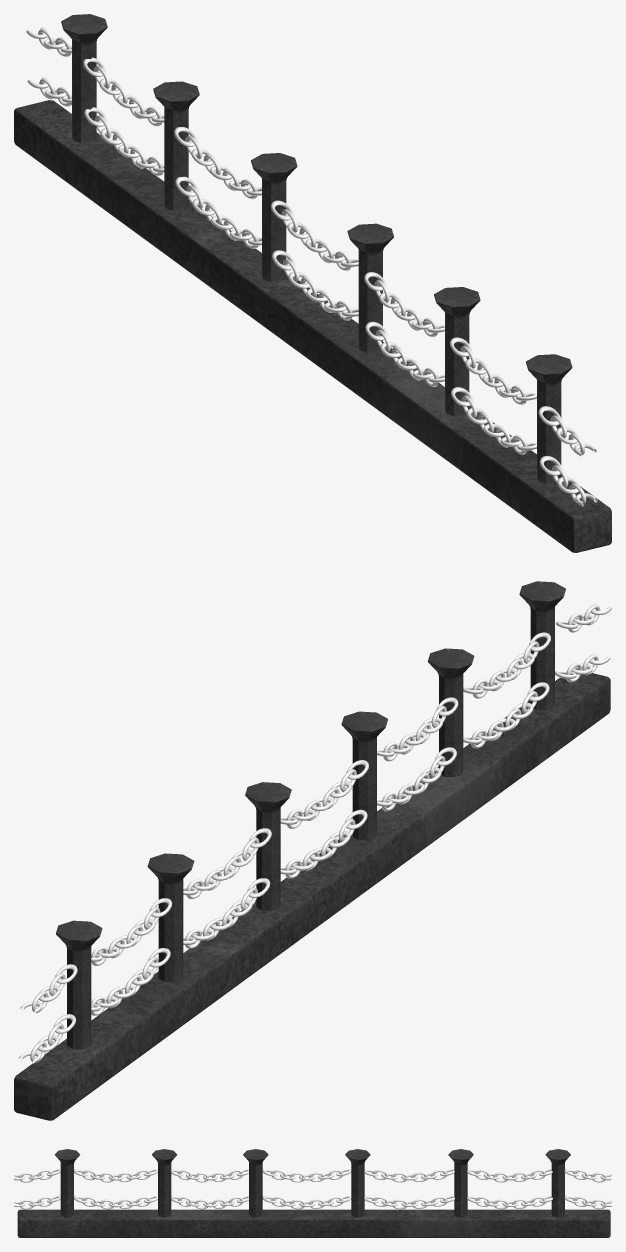
File: NEWFence.fbx
3 views of the same model, one above another, from view 1: azimuth 30°, elevation 25°; view 2: azimuth 150°, elevation 25°; view 3: azimuth 270°, elevation 25° (orthographic). The views are drawn at different scales.
Parts seen in each view (by area): view 1: fence_base, pCylinder3, pCylinder4, pCylinder5, pCylinder6, pCylinder7, pCylinder2, Circle3, Circle2, Circle4, Circle5, Circle8 (+7 smaller); view 2: fence_base, pCylinder4, pCylinder3, pCylinder5, pCylinder6, pCylinder7, pCylinder2, Circle2, Circle3, Circle4, Circle5, Circle8 (+7 smaller); view 3: fence_base, pCylinder2, pCylinder7, pCylinder6, pCylinder5, pCylinder4, pCylinder3, Circle3, Circle2, Circle5, Circle4, Circle1 (+9 smaller).
Boxes of the visible parts, box(x1,y1,x2,y2) form: fence_base: box(14, 100, 611, 552); pCylinder3: box(61, 14, 107, 143); pCylinder4: box(153, 81, 199, 210); pCylinder5: box(251, 153, 297, 281); pCylinder6: box(347, 223, 393, 352); pCylinder7: box(434, 287, 480, 415); pCylinder2: box(526, 354, 572, 483); Circle3: box(175, 176, 261, 248); Circle2: box(174, 127, 261, 199); Circle4: box(271, 200, 358, 270); Circle5: box(272, 250, 358, 320); Circle8: box(449, 337, 536, 404); fence_base: box(14, 669, 610, 1120); pCylinder4: box(147, 853, 194, 982); pCylinder3: box(56, 920, 102, 1049); pCylinder5: box(245, 782, 291, 910); pCylinder6: box(341, 711, 387, 840); pCylinder7: box(428, 648, 474, 777); pCylinder2: box(519, 581, 565, 710); Circle2: box(183, 828, 271, 899); Circle3: box(183, 878, 270, 948); Circle4: box(280, 760, 368, 828); Circle5: box(280, 809, 367, 878); Circle8: box(463, 632, 550, 698); fence_base: box(17, 1209, 610, 1237); pCylinder2: box(54, 1149, 80, 1217); pCylinder7: box(152, 1149, 177, 1217); pCylinder6: box(243, 1149, 268, 1217); pCylinder5: box(345, 1149, 370, 1217); pCylinder4: box(448, 1149, 473, 1217); pCylinder3: box(545, 1149, 570, 1217); Circle3: box(364, 1196, 454, 1209); Circle2: box(364, 1169, 454, 1182); Circle5: box(262, 1196, 351, 1209); Circle4: box(262, 1169, 351, 1182); Circle1: box(467, 1196, 552, 1209).
Bounding box in the file's own units: 3.47 × 11.55 × 78.06.
